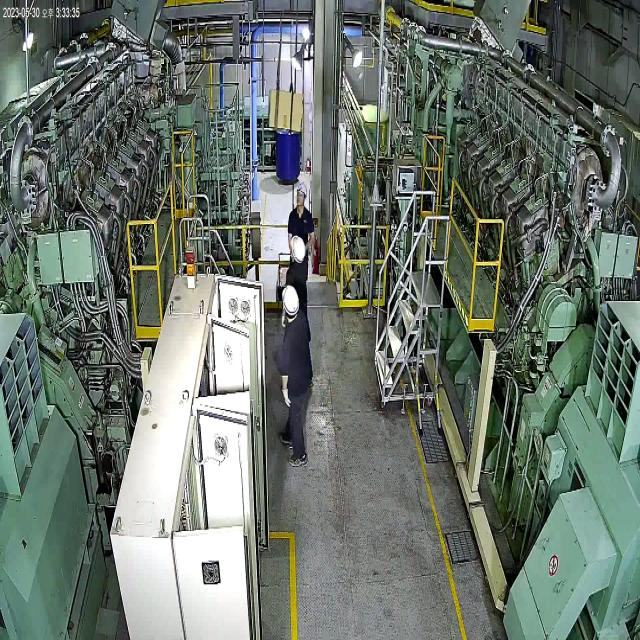Water Tank: (273, 118, 304, 188)
worker: (279, 282, 318, 471), (284, 178, 323, 264), (284, 235, 312, 322)
